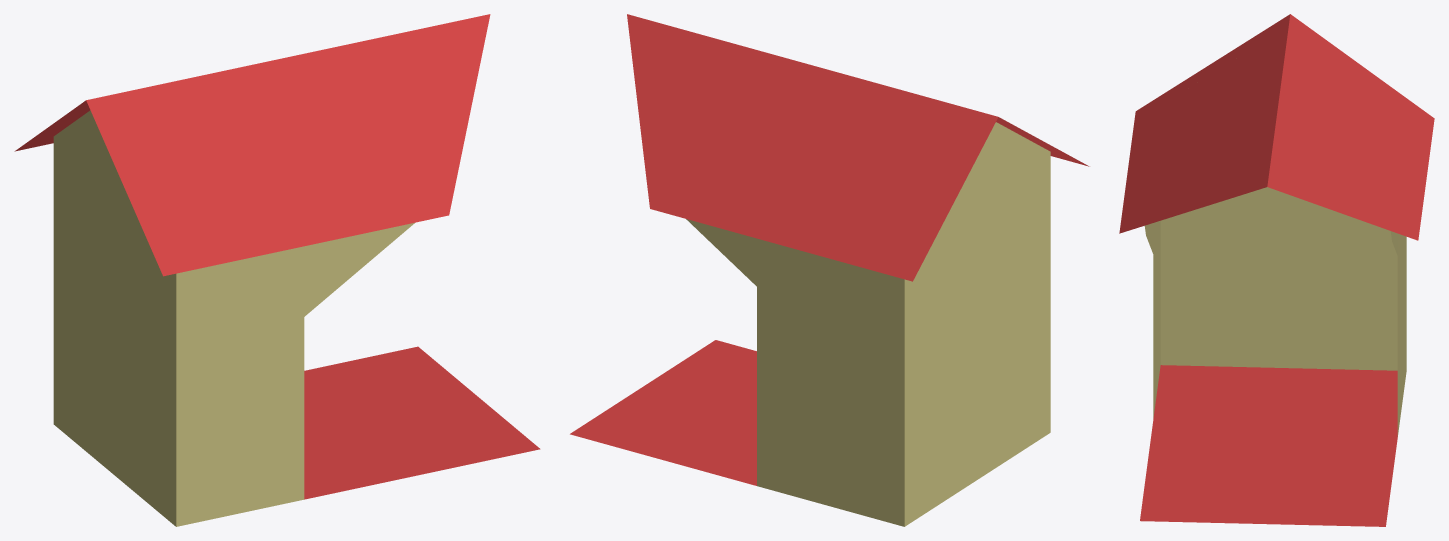
3 renders of one model, left to right at view 1: azimuth 30°, elevation 25°; view 2: azimuth 150°, elevation 25°; view 3: azimuth 270°, elevation 25°, orthographic. The views are drawn at different scales.
Size of the model in its own units: 15.77 by 11.89 by 14.27.
